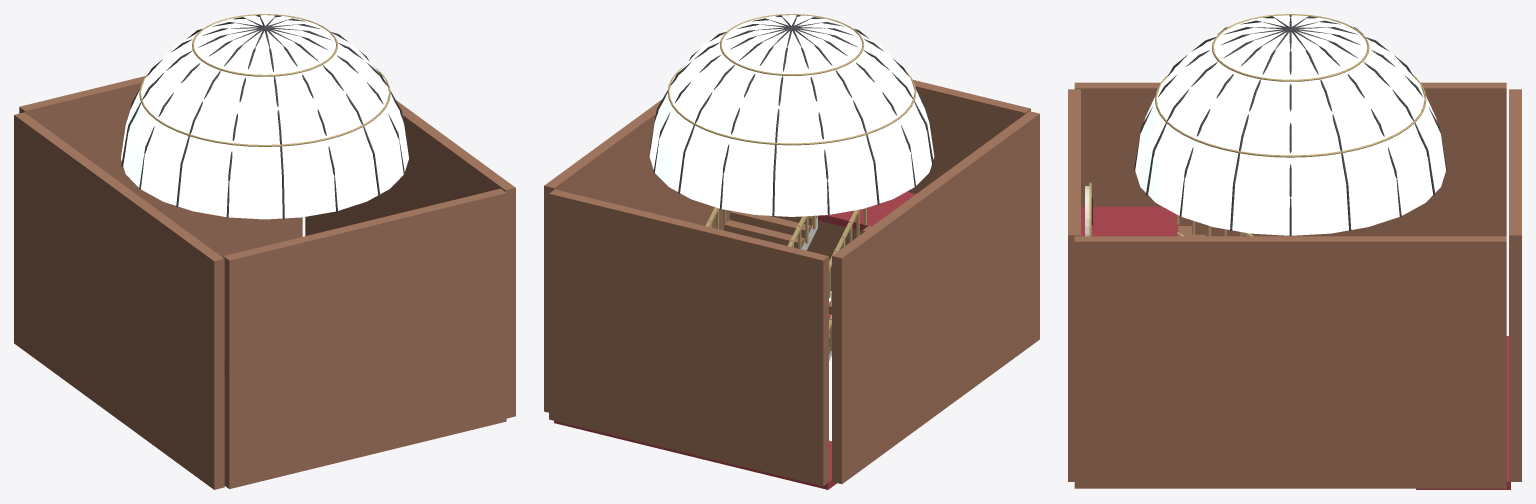
Rendered from grand_staircase.glb.
3 views of the same model, side by side, from view 1: azimuth 30°, elevation 25°; view 2: azimuth 150°, elevation 25°; view 3: azimuth 270°, elevation 25° (orthographic). The views are drawn at different scales.
Visible parts, largest first — view 1: WallBack-col, WallLeft-col, Dome, WallFront-col, WallRight-col, DomeRing60, DomeRing30; view 2: WallFront-col, WallLeft-col, Dome, WallRight-col, WallBack-col, Gallery-col, EntryFloor-col, RightFlight_Step5, RightFlight_Step4, DomeRing60, DomeRing30; view 3: WallRight-col, Dome, WallLeft-col, WallFront-col, WallBack-col, Gallery-col, DomeRing60, DomeRing30, EntryFloor-col.
Boxes of the visible parts, x1,y1,x2,y2 form: WallBack-col: (223, 188, 506, 488); WallLeft-col: (14, 112, 224, 489); Dome: (121, 15, 408, 219); WallFront-col: (19, 76, 302, 257); WallRight-col: (305, 100, 515, 418); DomeRing60: (139, 66, 390, 146); DomeRing30: (192, 14, 337, 76); WallFront-col: (549, 189, 828, 486); WallLeft-col: (832, 111, 1039, 483); Dome: (649, 15, 934, 216); WallRight-col: (544, 99, 730, 412); WallBack-col: (807, 80, 1030, 291); Gallery-col: (818, 191, 915, 231); EntryFloor-col: (554, 421, 836, 489); RightFlight_Step5: (730, 211, 811, 238); RightFlight_Step4: (724, 220, 805, 248); DomeRing60: (667, 65, 916, 145); DomeRing30: (720, 14, 863, 75); WallRight-col: (1074, 236, 1506, 488); Dome: (1135, 15, 1445, 235); WallLeft-col: (1074, 82, 1506, 236); WallFront-col: (1509, 89, 1521, 481); WallBack-col: (1068, 89, 1080, 481); Gallery-col: (1081, 206, 1178, 236); DomeRing60: (1155, 74, 1426, 157); DomeRing30: (1212, 14, 1369, 81); EntryFloor-col: (1416, 336, 1510, 489).
Size of the model in its own units: 8.7 by 10.12 by 10.5.
